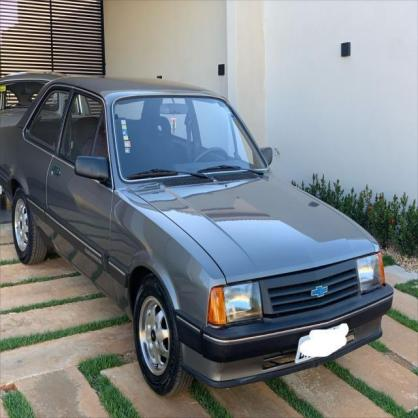car: (3, 74, 390, 394)
